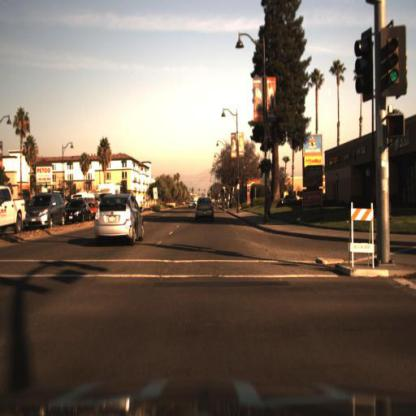car: (92, 192, 147, 247), (23, 189, 71, 236), (64, 197, 93, 232), (192, 195, 217, 228), (187, 197, 197, 209)
pedestrian: (268, 191, 273, 220)
